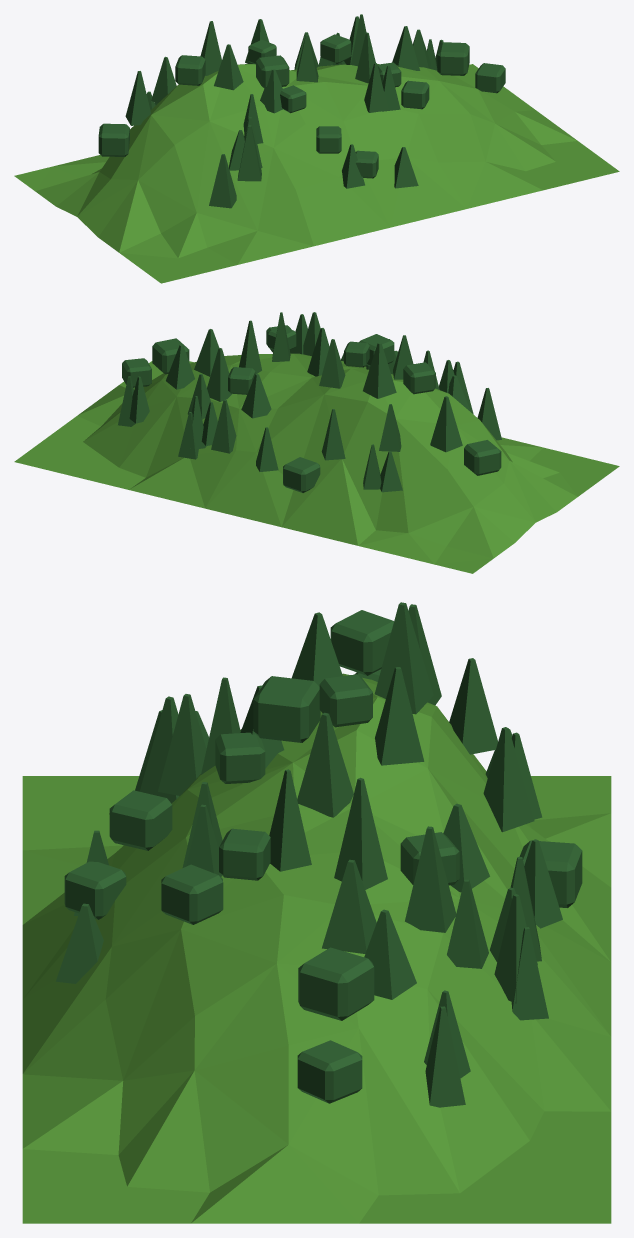
Rendered from Hill1.fbx.
3 renders of one model, top to bottom at view 1: azimuth 30°, elevation 25°; view 2: azimuth 150°, elevation 25°; view 3: azimuth 270°, elevation 25°, orthographic. The views are drawn at different scales.
Visible parts, largest first — view 1: Hill, Grove; view 2: Hill, Grove; view 3: Hill, Grove.
Boxes of the visible parts, x1=… form: Hill: x1=14, y1=64, x2=619, y2=283; Grove: x1=98, y1=14, x2=505, y2=208; Hill: x1=14, y1=353, x2=619, y2=573; Grove: x1=118, y1=312, x2=501, y2=492; Hill: x1=22, y1=673, x2=611, y2=1223; Grove: x1=56, y1=602, x2=582, y2=1107.
Size of the model in its own units: 90 by 29.41 by 50.
